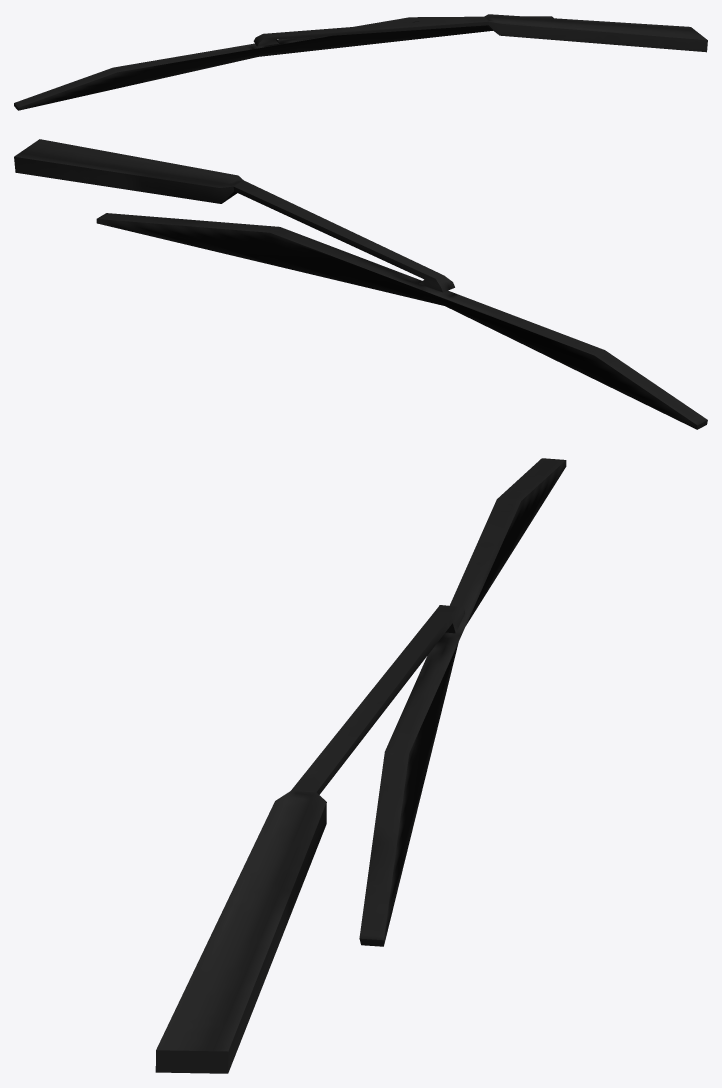
File: Wiper.FBX
The picture shows the model from 3 angles, top to bottom: view 1: azimuth 30°, elevation 25°; view 2: azimuth 150°, elevation 25°; view 3: azimuth 270°, elevation 25°; orthographic projection. The views are drawn at different scales.
Parts seen in each view (by area): view 1: WiperLeft; view 2: WiperLeft; view 3: WiperLeft.
Part boxes in pixels (x1,y1,x2,y2): WiperLeft: [14, 14, 707, 110]; WiperLeft: [14, 139, 707, 429]; WiperLeft: [155, 458, 566, 1073].
Size of the model in its own units: 26.61 by 2.28 by 7.96.
